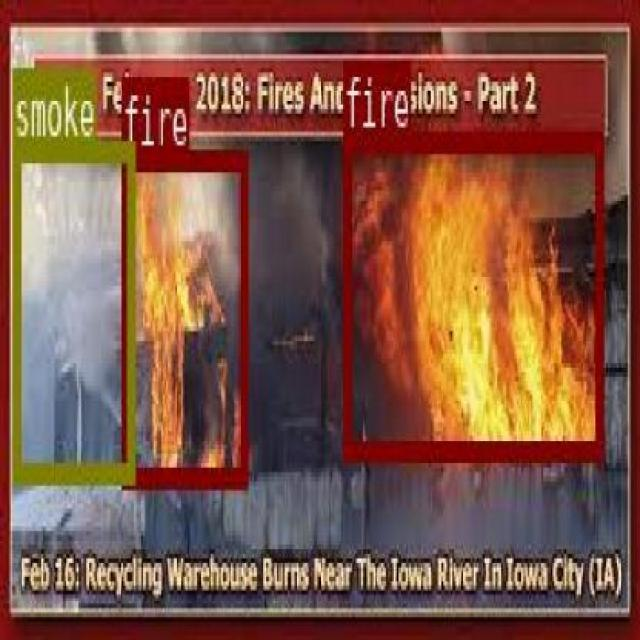Fire: (342, 130, 602, 456), (121, 146, 247, 482)
Smoke: (12, 140, 134, 480)
